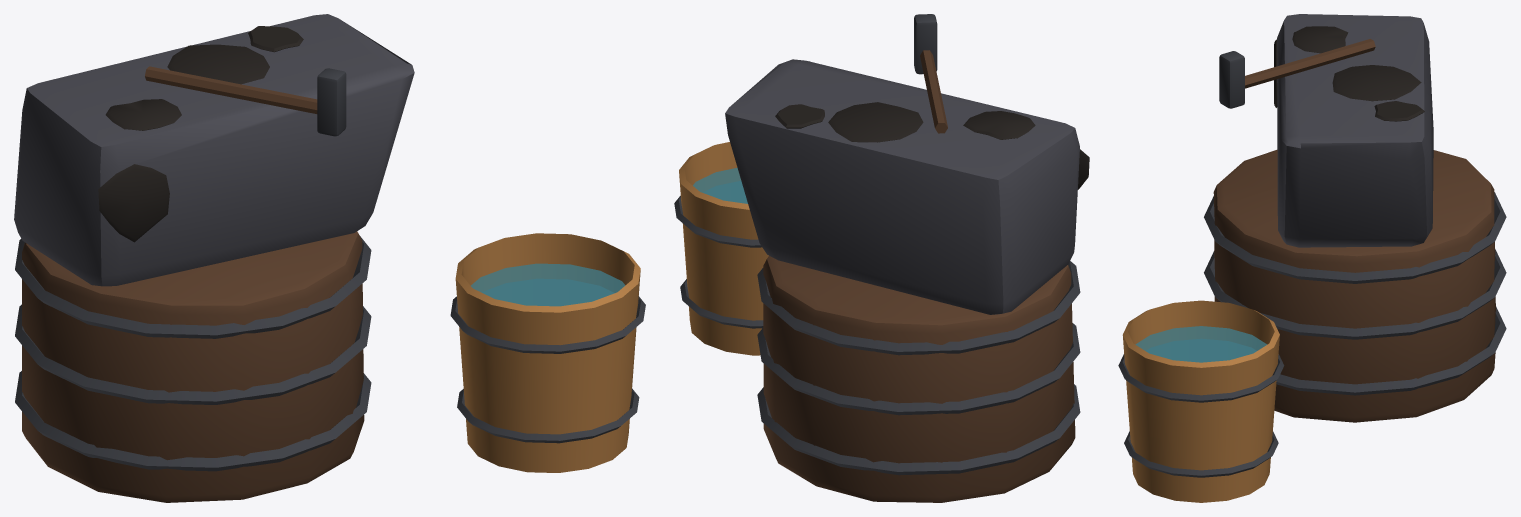
Rendered from deco_anvil_stone.fbx.
The picture shows the model from 3 angles, left to right: view 1: azimuth 30°, elevation 25°; view 2: azimuth 150°, elevation 25°; view 3: azimuth 270°, elevation 25°; orthographic projection. The views are drawn at different scales.
Parts seen in each view (by area): view 1: AnvilStone_Stump, AnvilStone_Block, AnvilStone_QuenchBucket, AnvilStone_Scorch, AnvilStone_Hammer; view 2: AnvilStone_Stump, AnvilStone_Block, AnvilStone_QuenchBucket, AnvilStone_Scorch, AnvilStone_Hammer; view 3: AnvilStone_Stump, AnvilStone_Block, AnvilStone_QuenchBucket, AnvilStone_Scorch, AnvilStone_Hammer.
Boxes of the visible parts, x1,y1,x2,y2 form: AnvilStone_Stump: (15,231,371,502); AnvilStone_Block: (14,14,414,286); AnvilStone_QuenchBucket: (450,233,645,472); AnvilStone_Scorch: (98,26,303,242); AnvilStone_Hammer: (145,66,346,136); AnvilStone_Stump: (757,255,1080,502); AnvilStone_Block: (725,59,1079,314); AnvilStone_QuenchBucket: (674,142,768,355); AnvilStone_Scorch: (775,102,1089,189); AnvilStone_Hammer: (914,14,947,133); AnvilStone_Stump: (1204,149,1506,422); AnvilStone_Block: (1277,14,1433,247); AnvilStone_QuenchBucket: (1118,300,1284,502); AnvilStone_Scorch: (1274,26,1424,121); AnvilStone_Hammer: (1219,39,1375,108).
Size of the model in its own units: 144 by 110 by 114.
